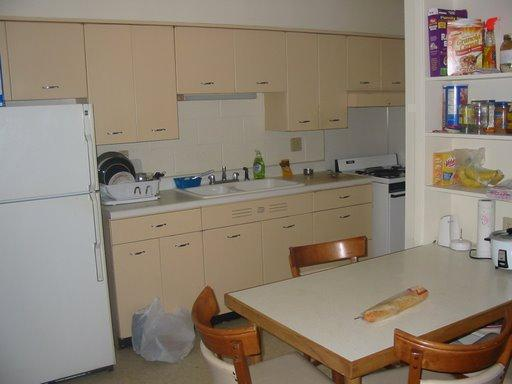Electrodomestico: (2, 108, 99, 383), (417, 9, 511, 206), (342, 157, 405, 252)
Otro Obstaculo: (128, 283, 197, 367)
